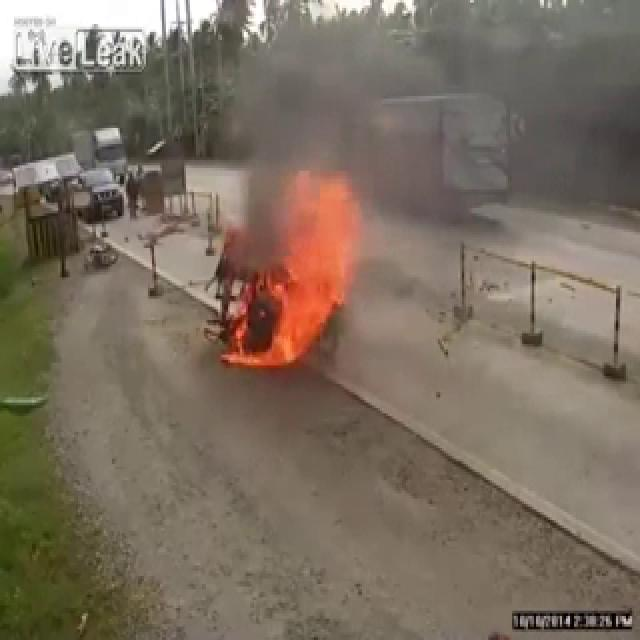explosion: (189, 96, 526, 640)
